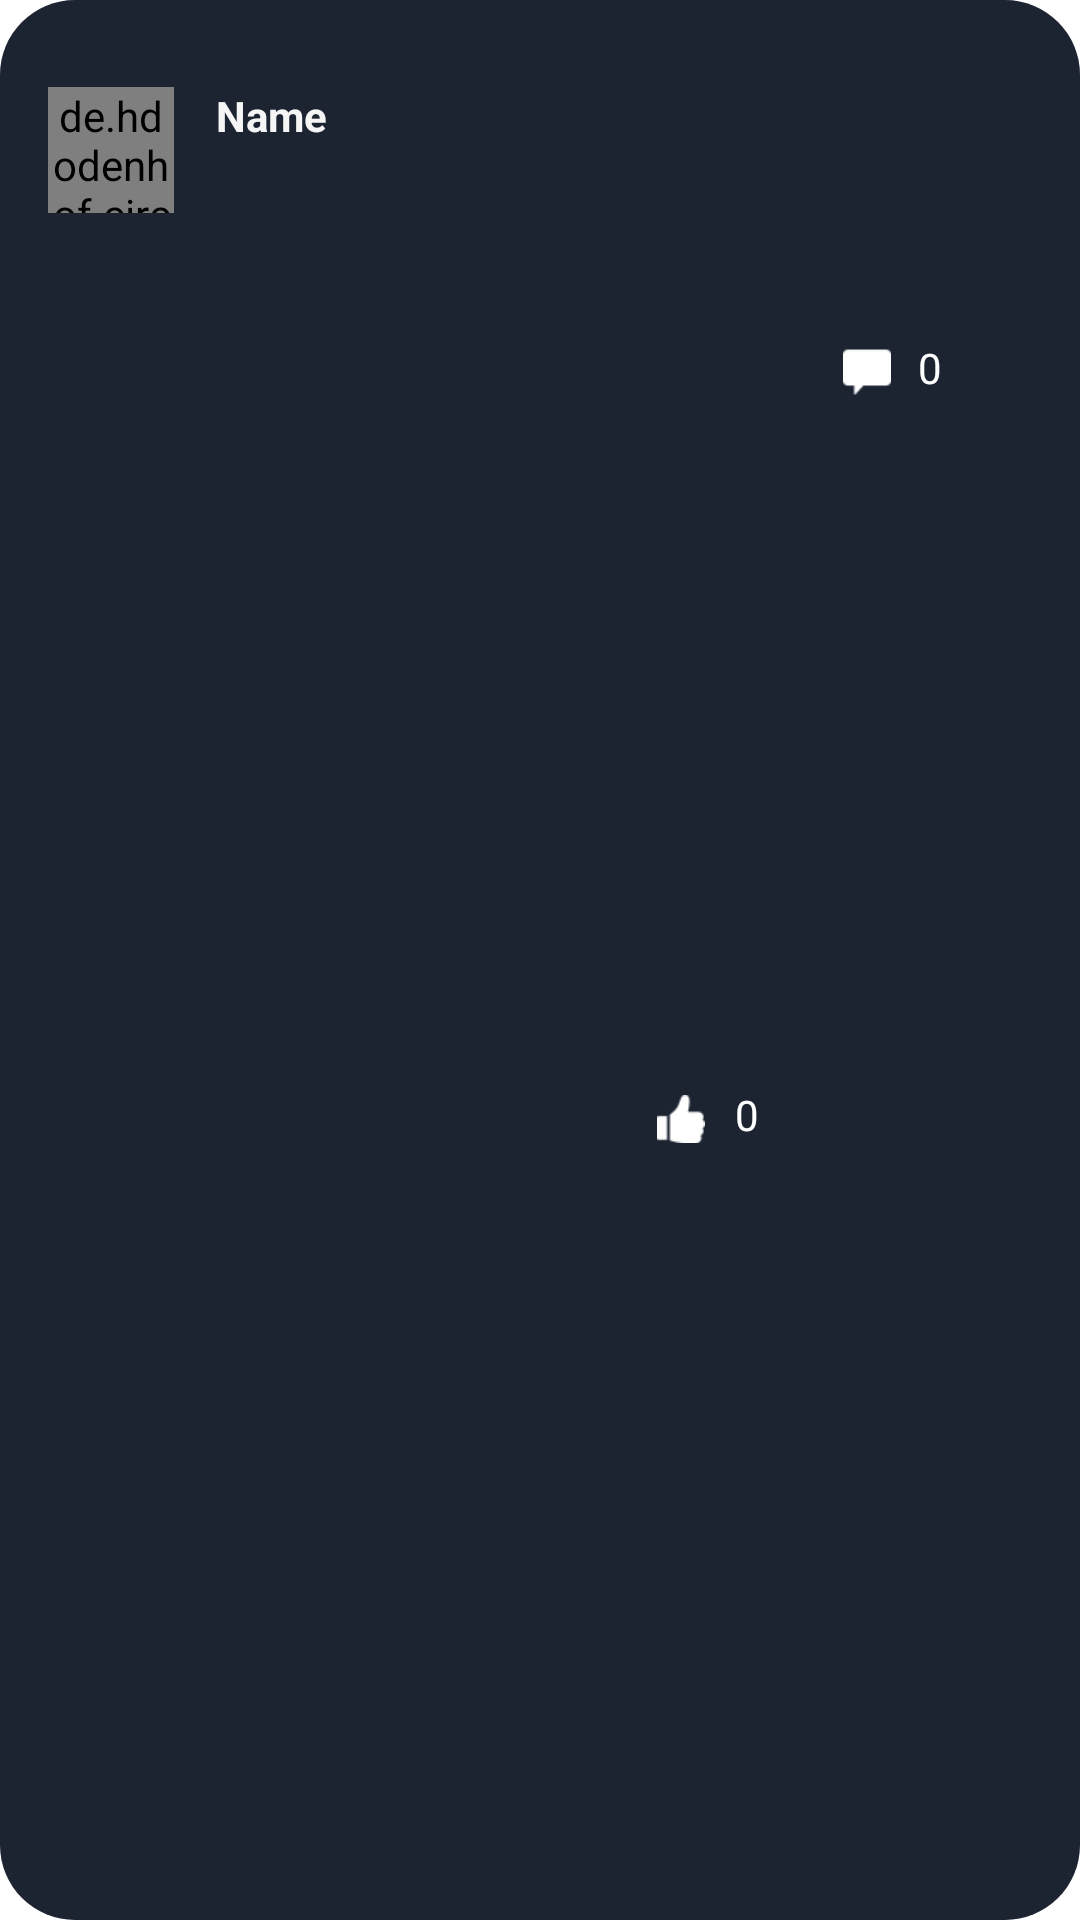

Where to tap for icons on this 1080×1920 app screen, as (x,y):
comment: (867,372)
like: (681,1119)
